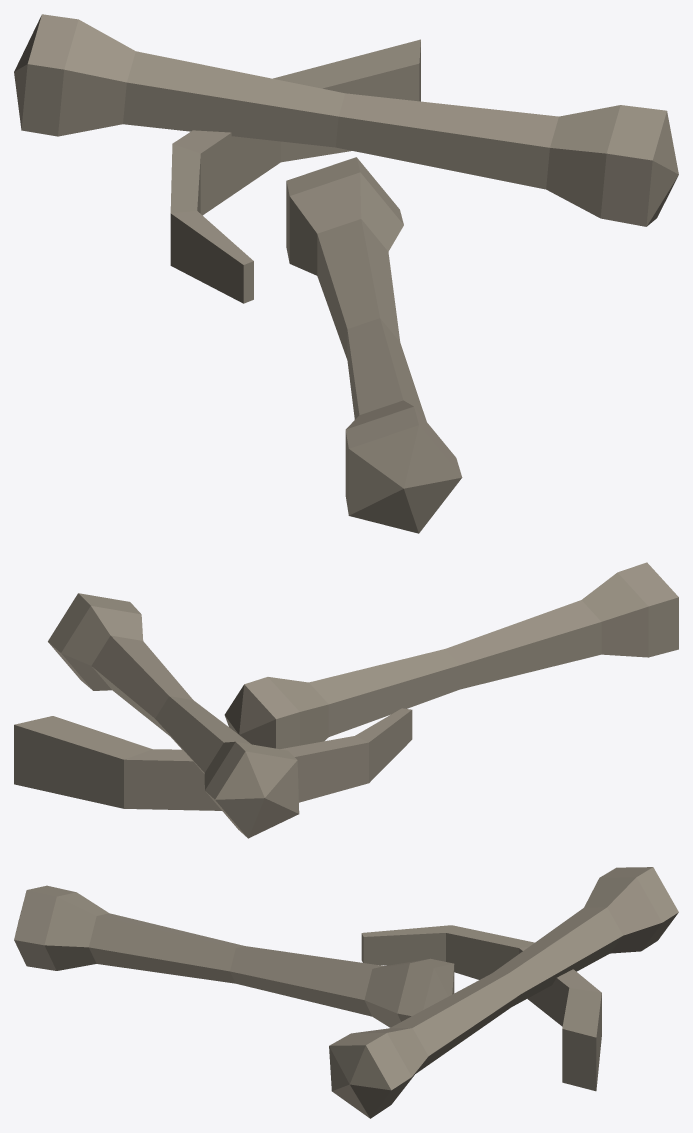
The model's file is SM_Env_BonePile_Small_01.fbx.
The picture shows the model from 3 angles, top to bottom: view 1: azimuth 30°, elevation 25°; view 2: azimuth 150°, elevation 25°; view 3: azimuth 270°, elevation 25°; orthographic projection. The views are drawn at different scales.
Parts seen in each view (by area): view 1: SM_Env_BonePile_Small_01; view 2: SM_Env_BonePile_Small_01; view 3: SM_Env_BonePile_Small_01.
Part boxes in pixels (box(x1,y1,x2,y2)): SM_Env_BonePile_Small_01: box(14, 14, 678, 533); SM_Env_BonePile_Small_01: box(14, 562, 678, 838); SM_Env_BonePile_Small_01: box(14, 867, 678, 1118).
Bounding box in the file's own units: 1.04 × 0.3082 × 1.51.
